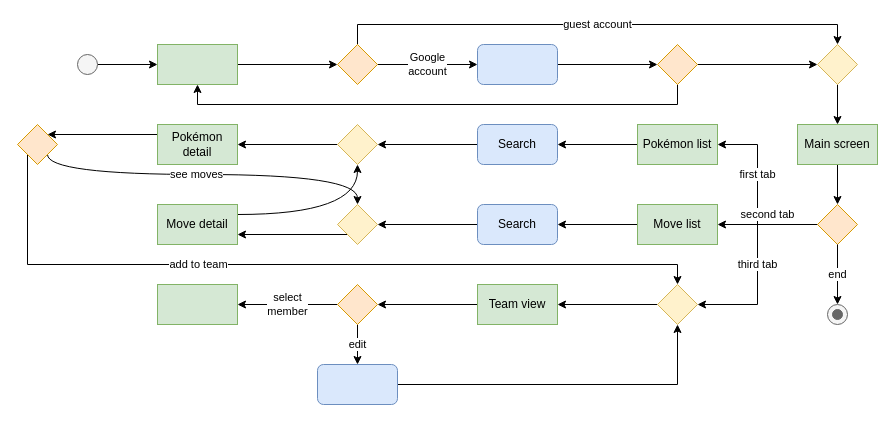
Image size: 895x422. Some labels were removed from this diagram. The shapes that lost their labels are listed below. From the top down, each one's centre as x and y in pixels, then its label:
At point 197,64: "Login screen".
At point 517,64: "Authenticate".
At point 197,304: "Member detail".
At point 357,384: "Update team".
